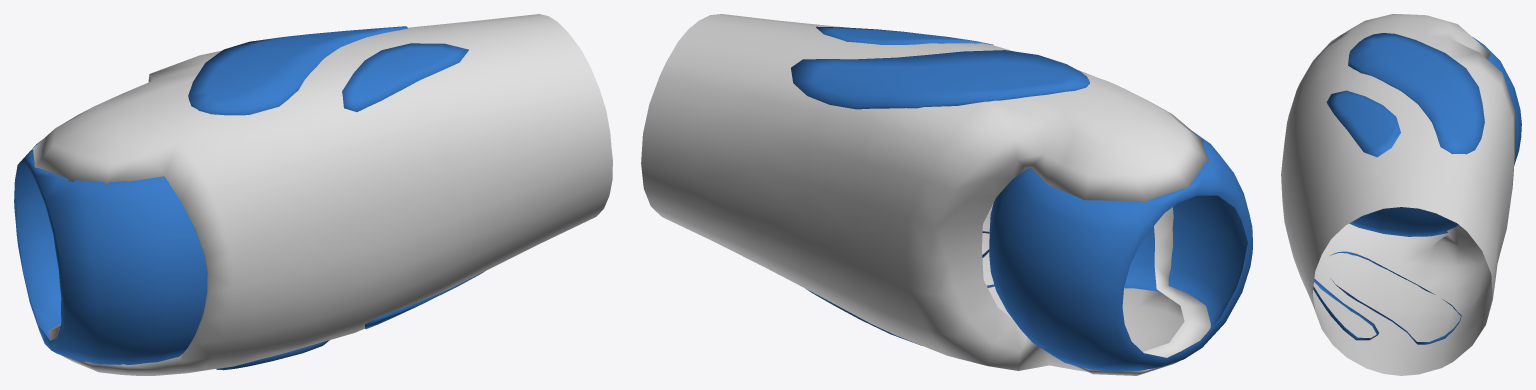
The model's file is RElbowYaw.dae.
3 views of the same model, side by side, from view 1: azimuth 30°, elevation 25°; view 2: azimuth 150°, elevation 25°; view 3: azimuth 270°, elevation 25° (orthographic). The views are drawn at different scales.
Visible parts, largest first — view 1: RElbowYaw; view 2: RElbowYaw; view 3: RElbowYaw.
Boxes of the visible parts, x1=… form: RElbowYaw: x1=14, y1=14, x2=612, y2=375; RElbowYaw: x1=641, y1=14, x2=1252, y2=375; RElbowYaw: x1=1281, y1=14, x2=1521, y2=375.
Size of the model in its own units: 0.2117 by 0.0965 by 0.1038.
